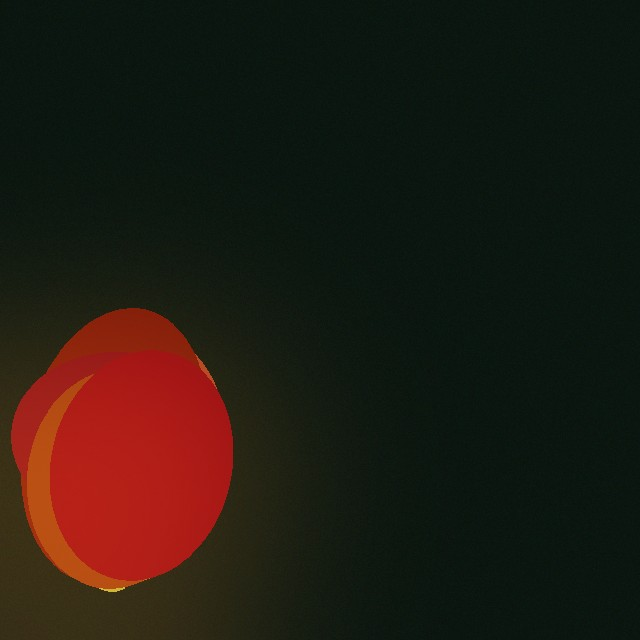fire: (48, 373, 188, 591)
